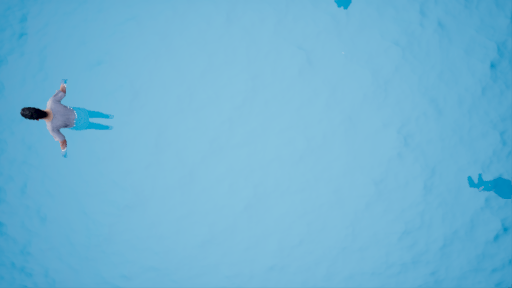person: (15, 73, 115, 166)
